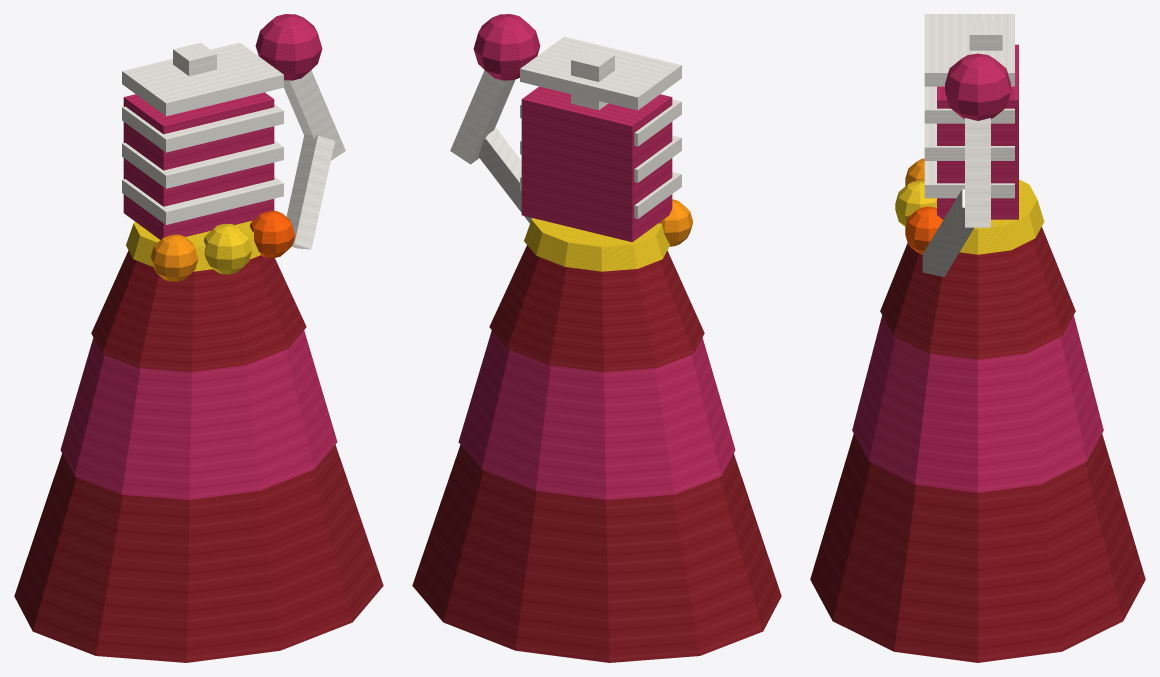
The model's file is catrina_vestido.obj.
The picture shows the model from 3 angles, left to right: view 1: azimuth 30°, elevation 25°; view 2: azimuth 150°, elevation 25°; view 3: azimuth 270°, elevation 25°; orthographic projection. The views are drawn at different scales.
Visible parts, largest first — view 1: catrina_vestido; view 2: catrina_vestido; view 3: catrina_vestido.
Part boxes in pixels (bbox=[...]): catrina_vestido: bbox=[14, 14, 383, 662]; catrina_vestido: bbox=[412, 14, 781, 662]; catrina_vestido: bbox=[810, 14, 1145, 662].
Bounding box in the file's own units: 0.48 × 0.762 × 0.408.
Materials: 1 (1 with a texture image).
